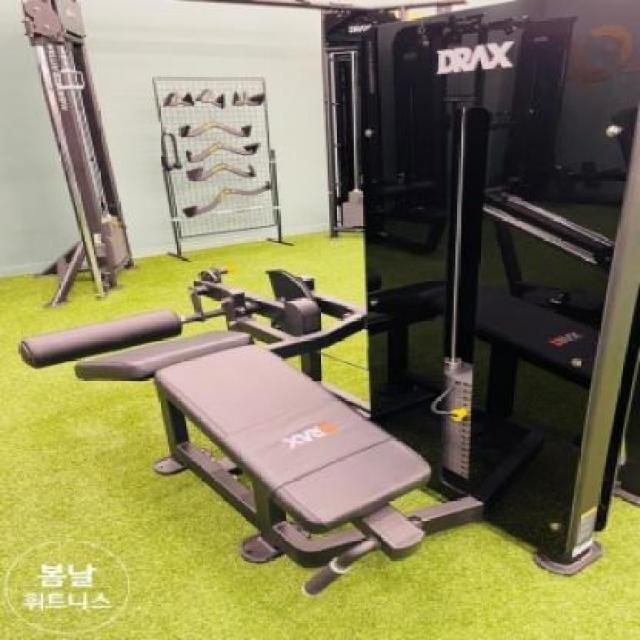reg curl machine: (12, 4, 640, 598)
